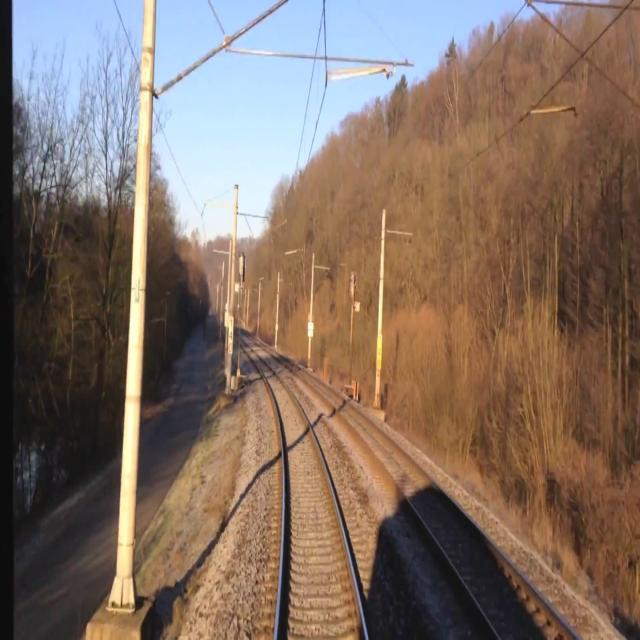rail-track: (294, 367, 575, 639), (239, 340, 364, 639)
